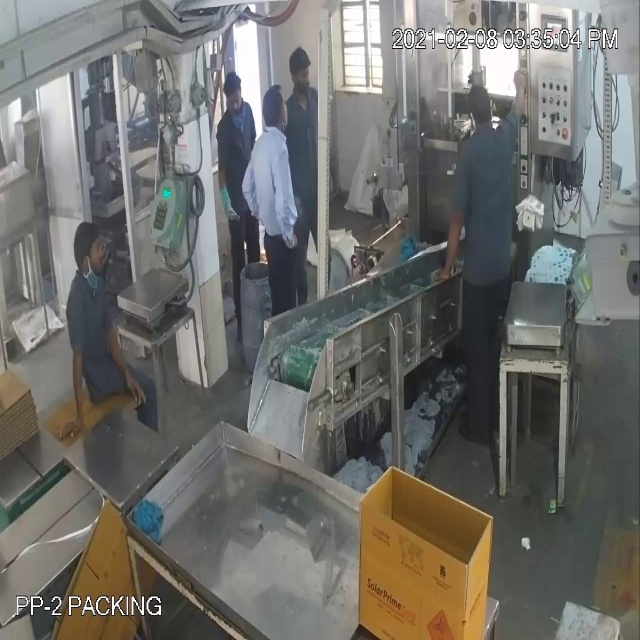Guantes: (211, 154, 240, 233)
Sin_guantes: (98, 296, 158, 415), (51, 328, 94, 451), (266, 137, 302, 277), (431, 189, 471, 297), (504, 55, 535, 147)
